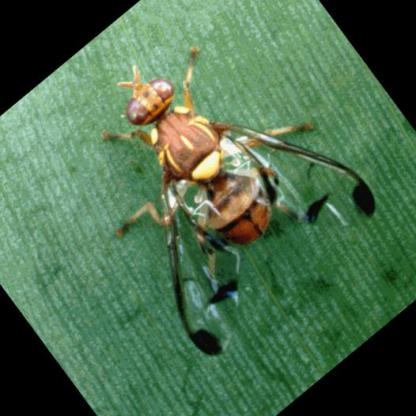fruit fly: (107, 47, 378, 356)
